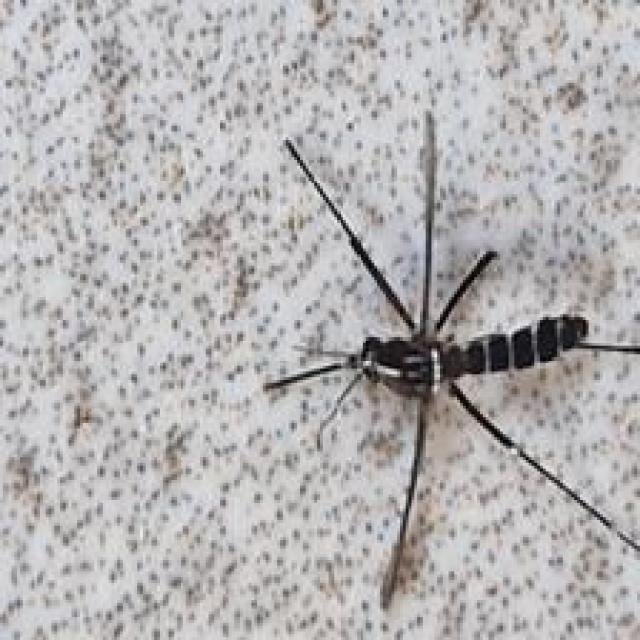Aedes albopictus: (260, 107, 640, 610)
